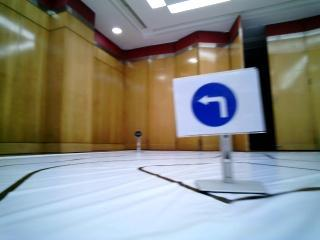left: (172, 80, 263, 132)
